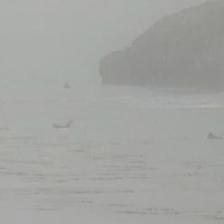surfer: (52, 121, 71, 129), (206, 132, 221, 141), (62, 82, 72, 90)
